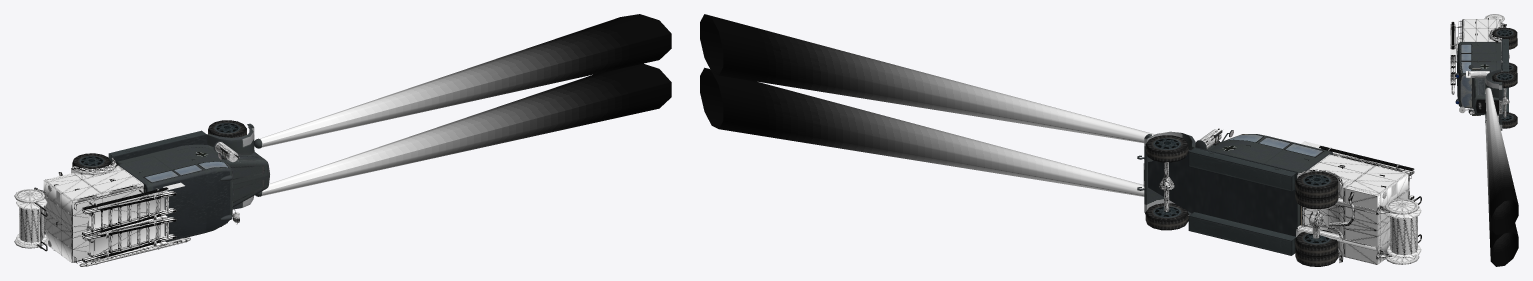
File: opelks15.obj
3 views of the same model, side by side, from view 1: azimuth 30°, elevation 25°; view 2: azimuth 150°, elevation 25°; view 3: azimuth 270°, elevation 25° (orthographic). The views are drawn at different scales.
Parts seen in each view (by area): view 1: licht, kab, tank, geraete, radf, fenster; view 2: licht, kab, tank, geraete, radp, radf, fenster; view 3: licht, kab, tank, geraete, fenster, radf, radp.
Boxes of the visible parts, box(x1,y1,x2,y2) form: licht: box(259, 14, 671, 196); kab: box(108, 123, 269, 241); tank: box(43, 158, 167, 264); geraete: box(14, 142, 239, 266); radf: box(73, 120, 245, 168); fenster: box(145, 161, 233, 213); licht: box(700, 14, 1155, 196); kab: box(1137, 129, 1333, 255); tank: box(1159, 147, 1411, 264); geraete: box(1199, 128, 1421, 264); radp: box(1145, 141, 1338, 266); radf: box(1146, 135, 1337, 246); fenster: box(1228, 134, 1322, 156); licht: box(1485, 88, 1518, 266); kab: box(1455, 38, 1508, 130); tank: box(1451, 18, 1509, 117); geraete: box(1450, 14, 1506, 120); fenster: box(1460, 44, 1472, 107); radf: box(1493, 27, 1516, 122); radp: box(1492, 32, 1517, 128).
Size of the model in its own units: 1931 by 277 by 265.
